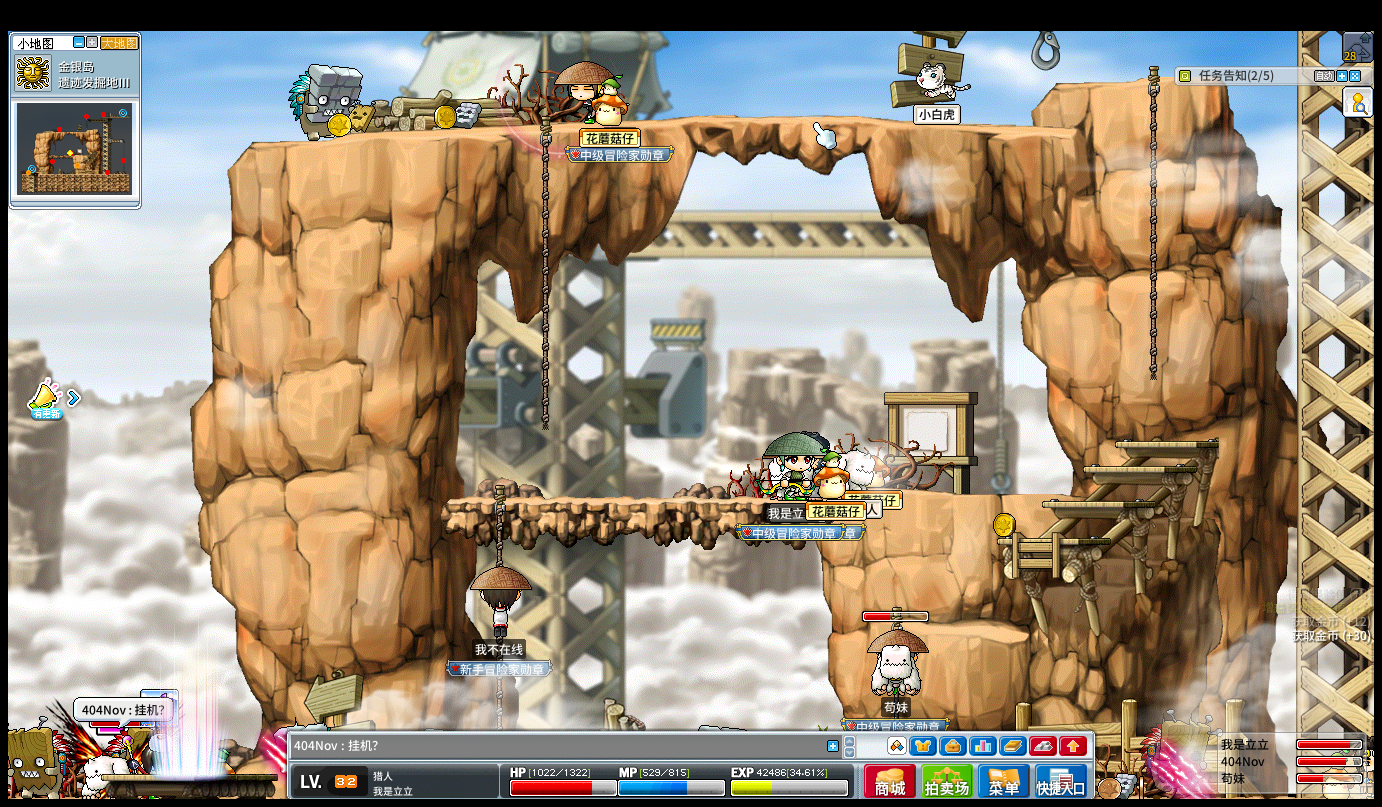floor: (225, 111, 1090, 146), (444, 496, 815, 507), (922, 621, 1029, 642), (1052, 74, 1182, 89), (919, 490, 1078, 499), (992, 533, 1107, 544), (1079, 463, 1197, 472), (1113, 439, 1217, 449), (1041, 498, 1153, 507)
monster: (1144, 714, 1221, 793), (287, 61, 363, 141), (4, 721, 73, 796)
rope: (1145, 55, 1161, 383), (537, 115, 550, 434), (491, 488, 505, 566)
